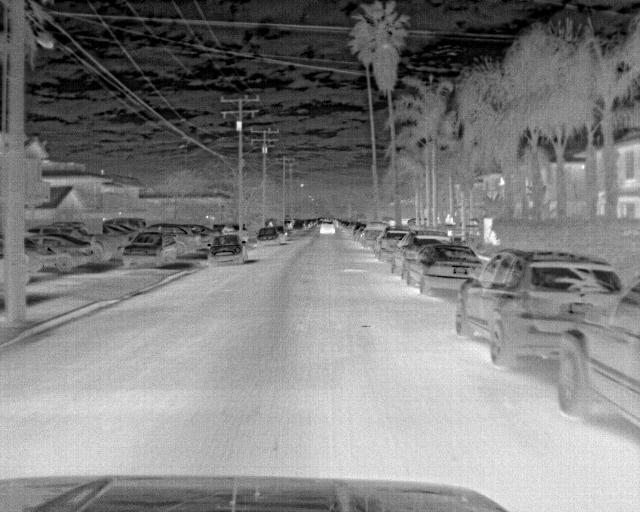car: (453, 252, 621, 367), (557, 277, 639, 431), (403, 242, 481, 296), (392, 232, 452, 279), (28, 230, 93, 273), (41, 225, 116, 260), (122, 227, 176, 264), (143, 223, 202, 255), (25, 235, 64, 278), (207, 234, 247, 267), (381, 228, 413, 261), (357, 220, 390, 250), (258, 226, 281, 246), (317, 220, 339, 236), (273, 225, 288, 243)
